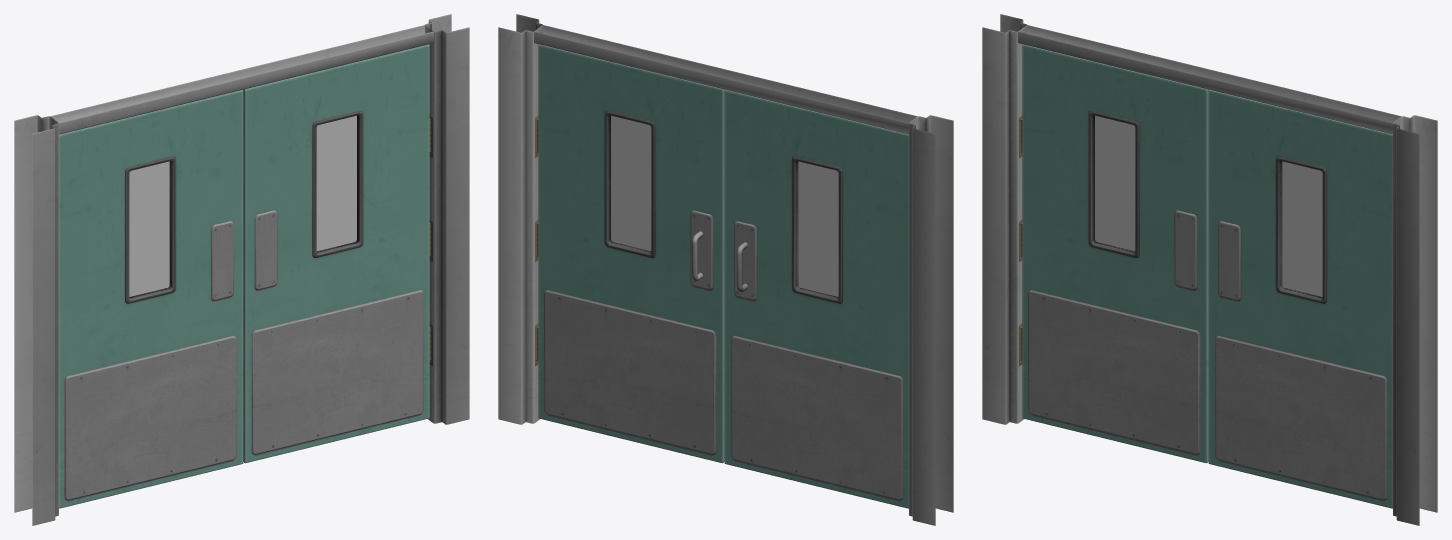
The model's file is swingdoor_hospital_double.dae.
3 renders of one model, left to right at view 1: azimuth 30°, elevation 25°; view 2: azimuth 150°, elevation 25°; view 3: azimuth 330°, elevation 25°, orthographic.
Visible parts, largest first — view 1: door_right, door_left, frame__2_, glass__2_, glass; view 2: door_right, door_left, frame__2_, glass__2_, glass; view 3: door_left, door_right, frame__2_, glass, glass__2_.
Boxes of the visible parts, x1,y1,x2,y2 form: door_right: [243, 44, 430, 463]; door_left: [59, 90, 243, 508]; frame__2_: [14, 14, 469, 525]; glass__2_: [129, 161, 169, 296]; glass: [316, 115, 356, 251]; door_right: [537, 44, 724, 463]; door_left: [724, 90, 908, 508]; frame__2_: [498, 14, 953, 525]; glass__2_: [798, 161, 838, 296]; glass: [611, 115, 651, 251]; door_left: [1021, 44, 1208, 463]; door_right: [1208, 90, 1392, 508]; frame__2_: [982, 14, 1437, 525]; glass: [1282, 161, 1322, 296]; glass__2_: [1095, 115, 1135, 251].
Bounding box in the file's own units: 3.5 × 3 × 0.2705.
